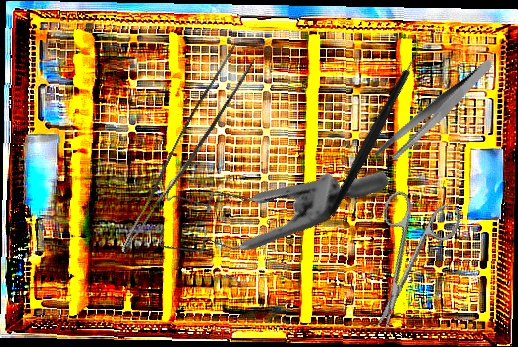Chopper: (278, 35, 468, 218)
Dressing Forceps: (358, 57, 512, 168)
Iris Scissors: (343, 184, 464, 342)
Speculum: (131, 71, 392, 327)
Tissue Forceps: (120, 41, 257, 266)
